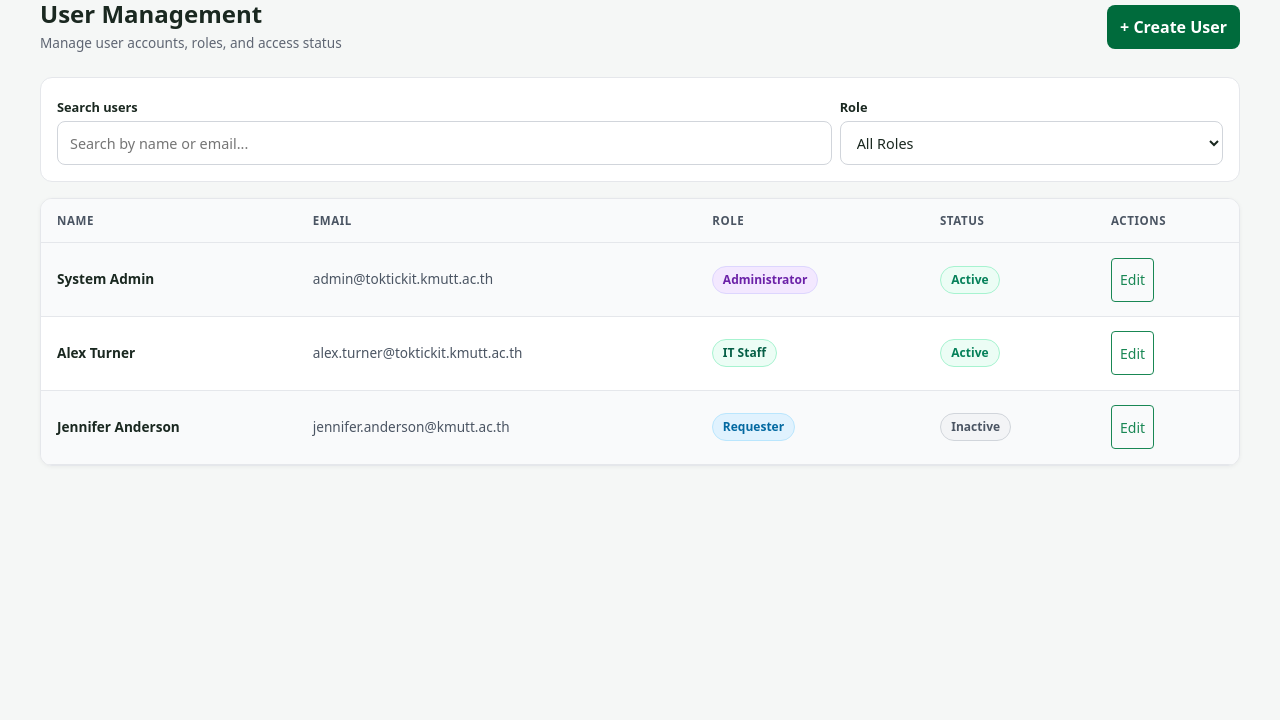
Test: UI-07: Administrator user management (FR-14, FR-15, AC-7.1, AC-7.4) › shows the inline duplicate-email message for a create 409
Expected: the text "System Admin" is shown, [57,269,154,288]
Click the button "+ Create User": click(1174, 27) [1107,5,1240,49]
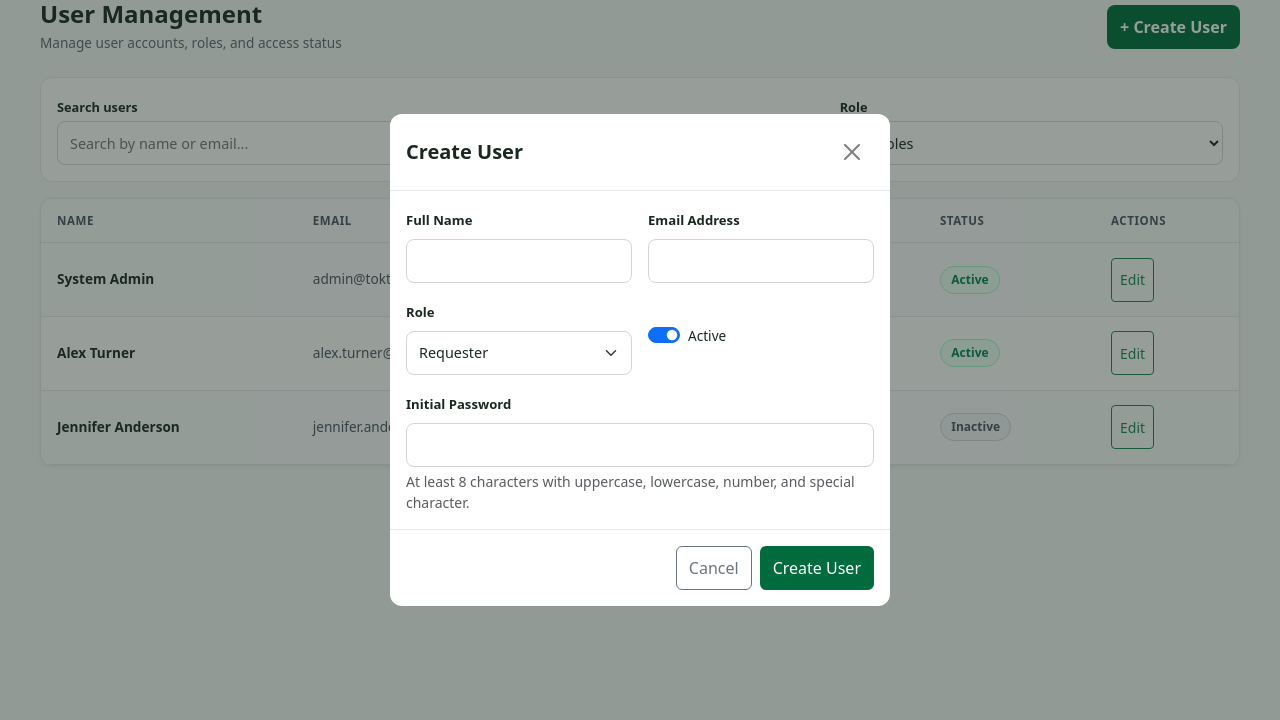
In the field with id "create-user-name": (519, 261) [406,239,632,283], type "  Dana Wong  "
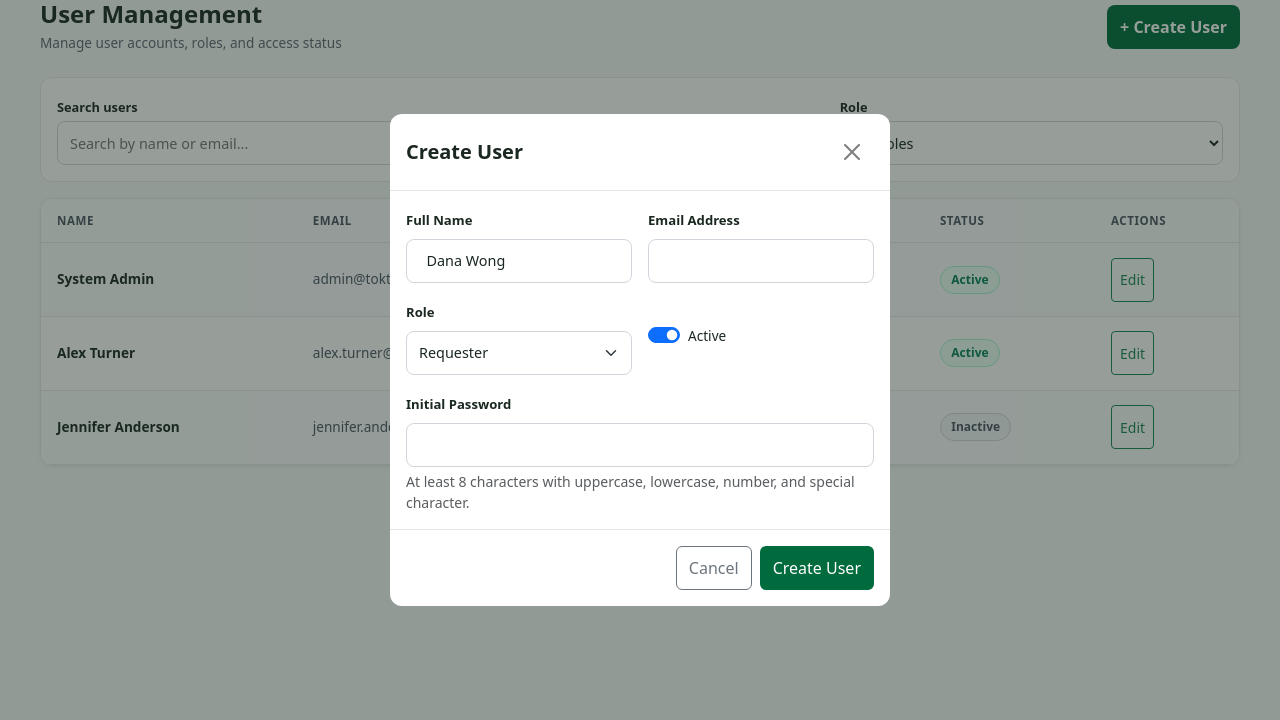
In the field with id "create-user-email": (761, 261) [648,239,874,283], type "  dana.wong@kmutt.ac.th  "
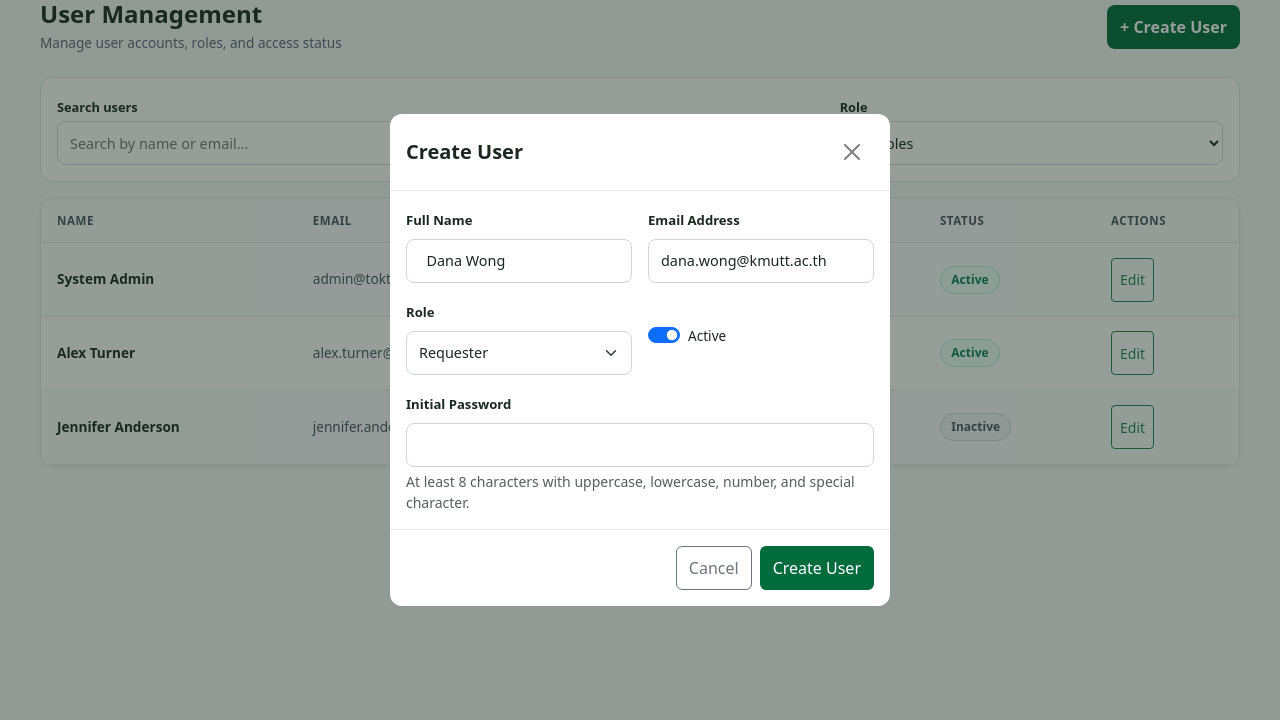
Select "IT Staff" in the dropdown with id "create-user-role": (519, 353) [406,331,632,375]
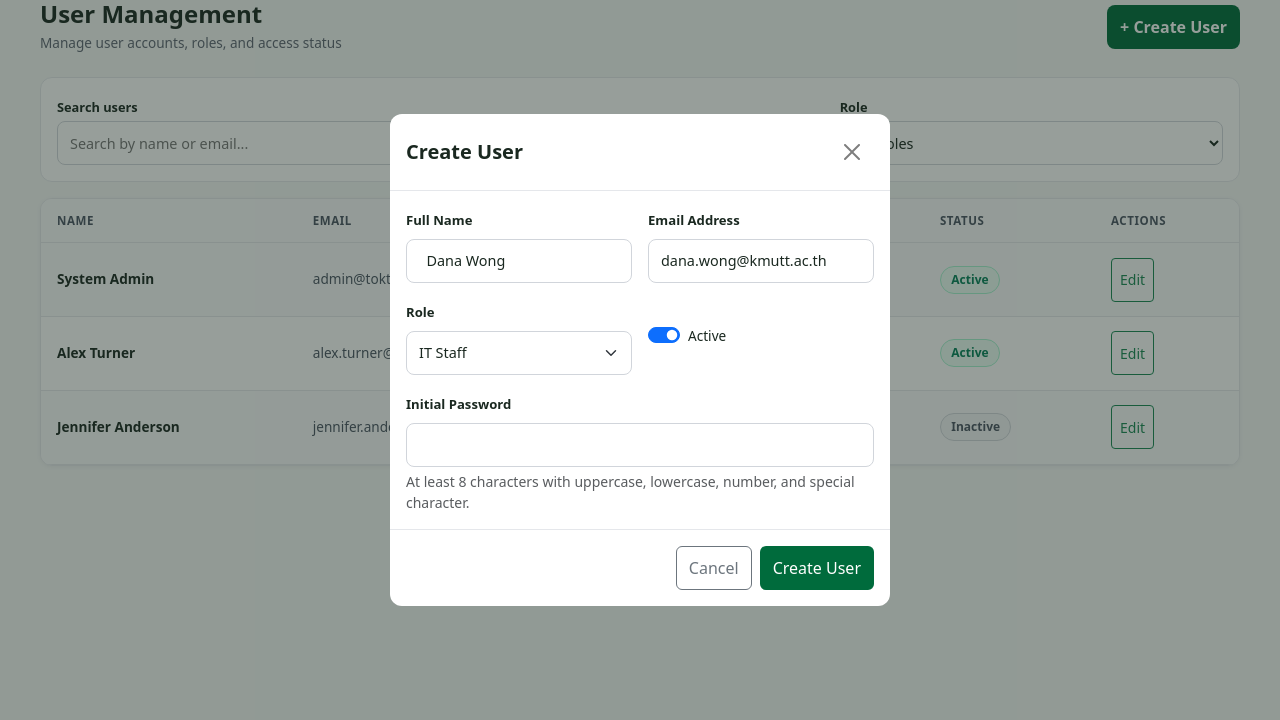
In the password field with id "create-user-password": (640, 444) [406,422,874,466], type "Start123!"
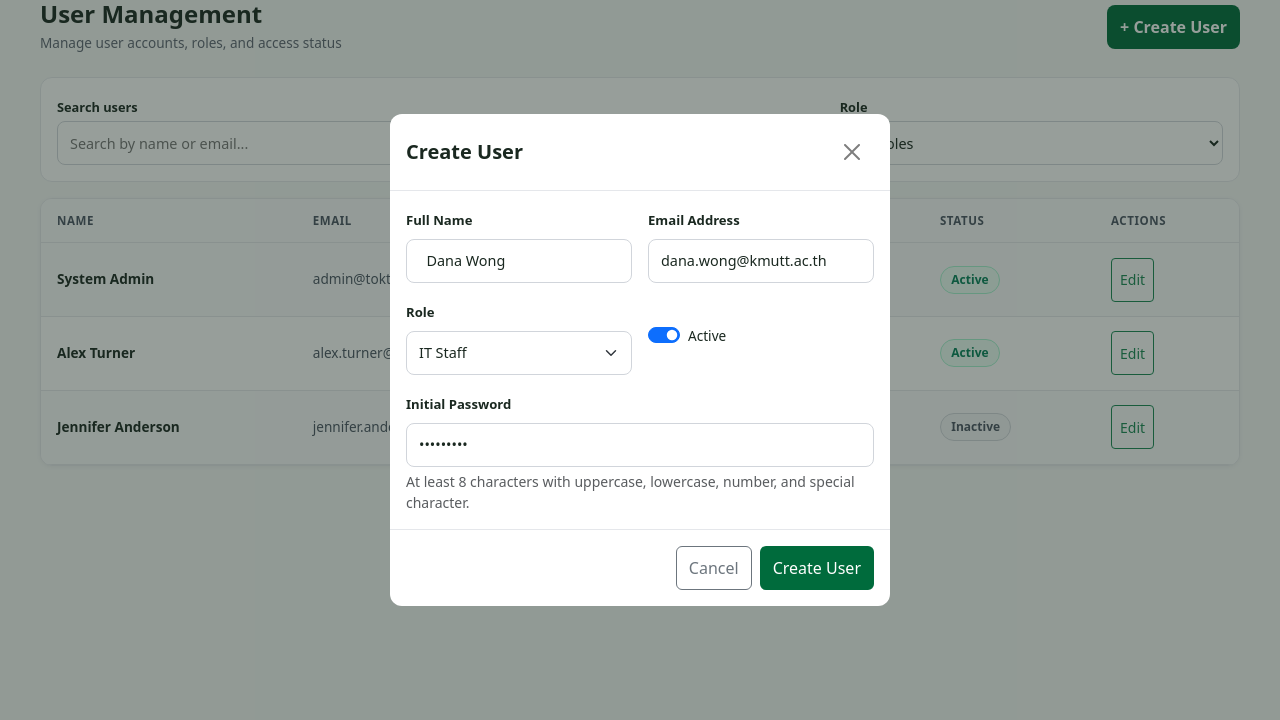
Click the button "Create User": click(817, 568) [760,546,874,590]
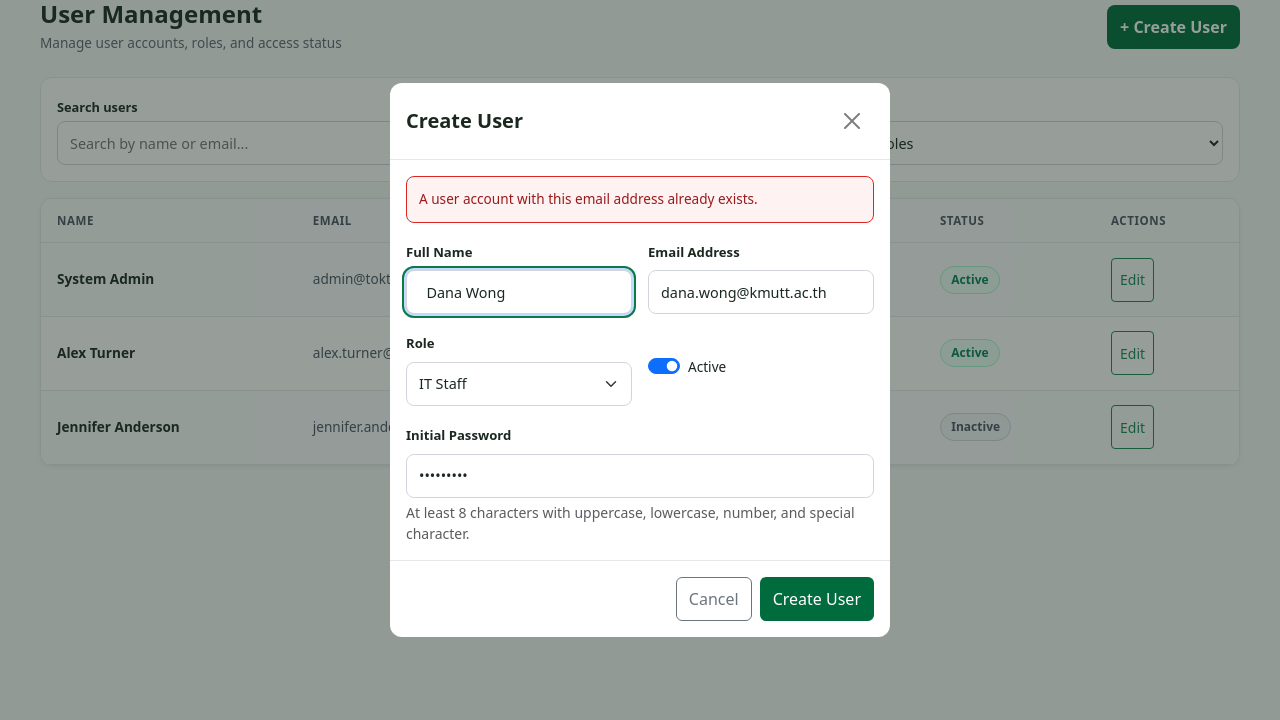
Expected: the dialog with test id "user-form-modal" is shown, [390,83,890,637]
Expected: the message reads "A user account with this email address already exists.", [419,189,758,208]
